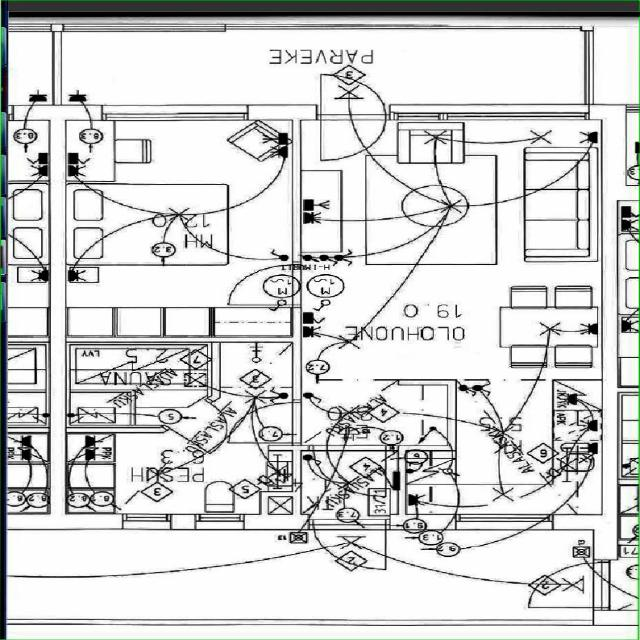door: (164, 399, 250, 453), (313, 514, 385, 574), (313, 445, 385, 496), (321, 64, 384, 120), (321, 104, 384, 159), (227, 264, 301, 304), (228, 402, 301, 442)
